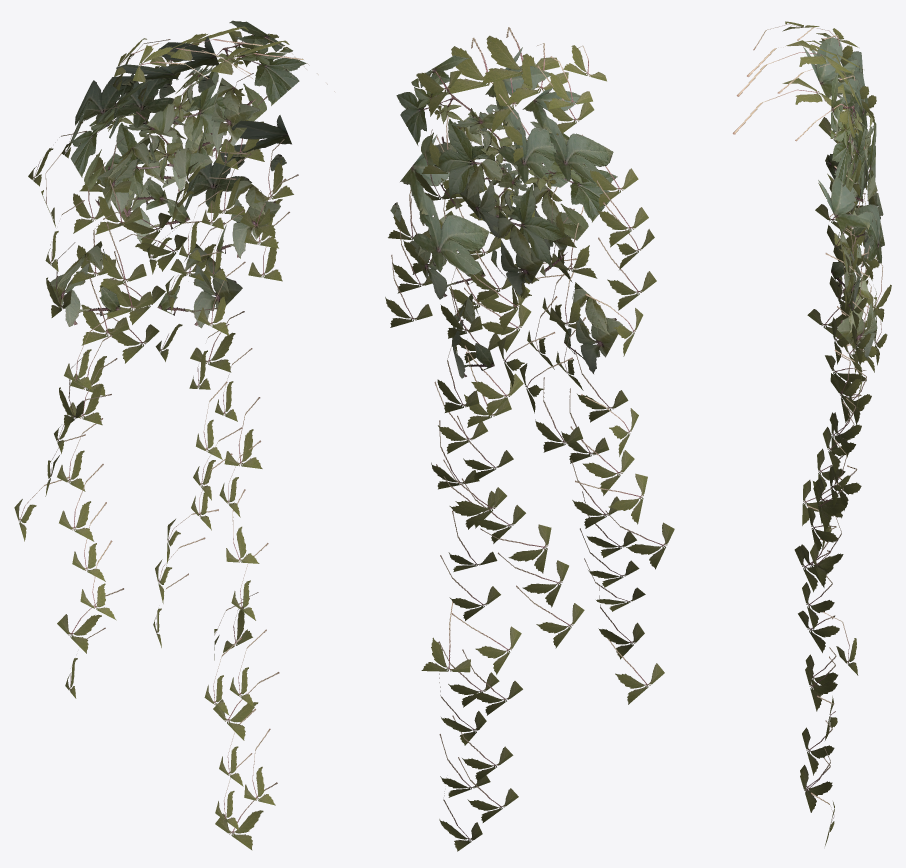
File: SM_Plant_Ivy_06.fbx
3 renders of one model, left to right at view 1: azimuth 30°, elevation 25°; view 2: azimuth 150°, elevation 25°; view 3: azimuth 270°, elevation 25°, orthographic. The views are drawn at different scales.
Visible parts, largest first — view 1: SM_Plant_Ivy_06; view 2: SM_Plant_Ivy_06; view 3: SM_Plant_Ivy_06.
Boxes of the visible parts, x1,y1,x2,y2 form: SM_Plant_Ivy_06: (14,20,334,850); SM_Plant_Ivy_06: (385,27,674,851); SM_Plant_Ivy_06: (732,21,891,845).
Bounding box in the file's own units: 176 × 99.29 × 467.
Materials: 1 (1 with a texture image).
